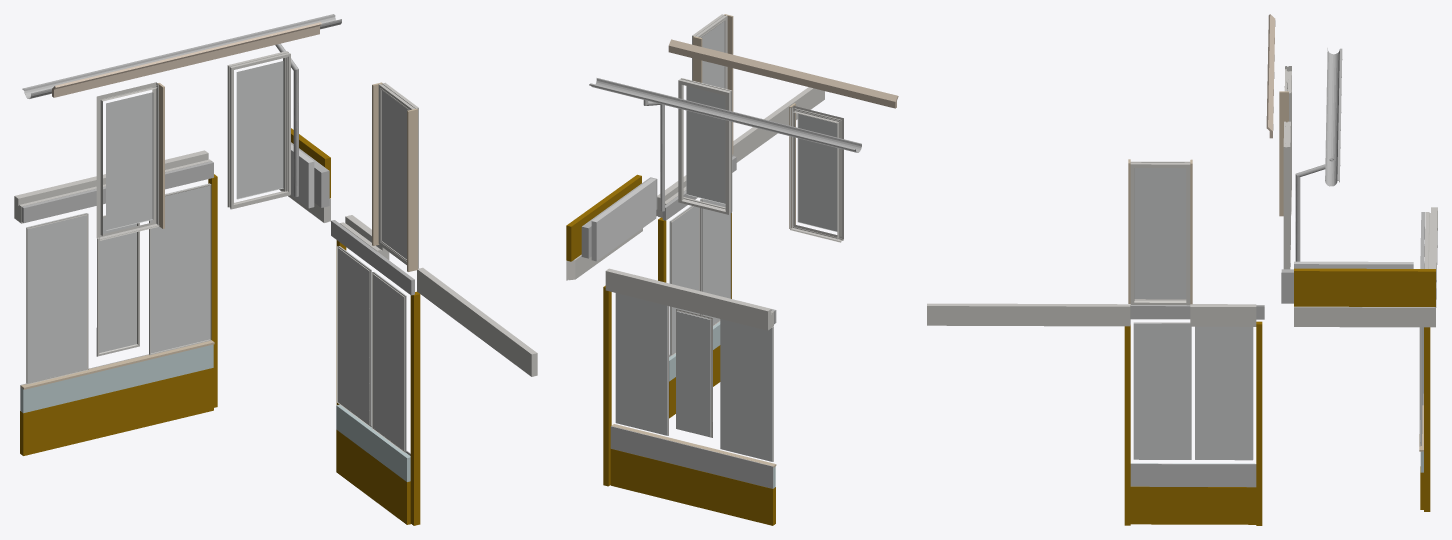
The picture shows the model from 3 angles, left to right: view 1: azimuth 30°, elevation 25°; view 2: azimuth 150°, elevation 25°; view 3: azimuth 270°, elevation 25°; orthographic projection. The views are drawn at different scales.
Bounding box in the file's own units: 5.44 × 7.3 × 8.63.
